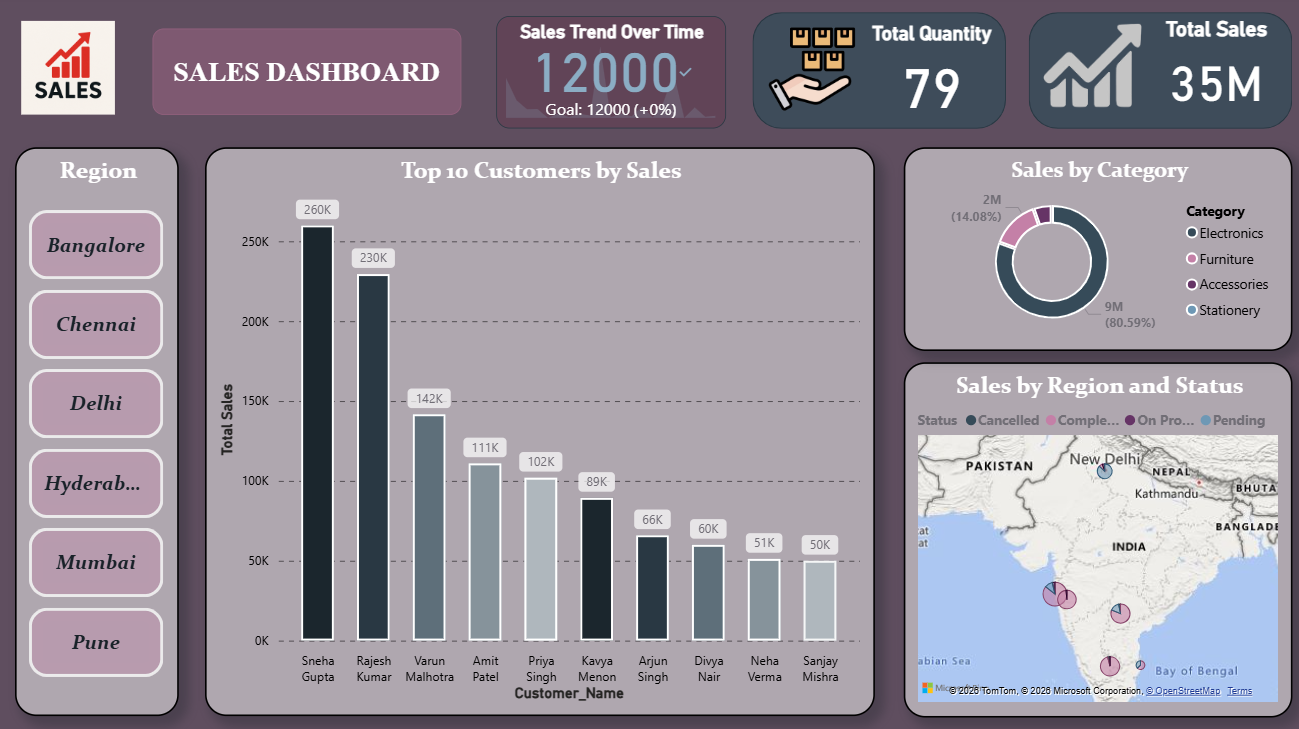

The dashboard page shown, as its layout file describes it:
{"tool":"powerbi","page":{"name":"Sales","canvas":[1280,720],"ordinal":0},"visuals":[{"type":"image","box":[0,19.6,133.7,101.8],"z":0},{"type":"lineStackedColumnComboChart","title":"Top 10 Customers by Sales ","fields":{"Category":["Raw Sales Data.Customer_Name"],"Y":["Raw Sales Data.Total Sales"]},"box":[201.7,148.2,657.3,558.5],"z":1000},{"type":"advancedSlicerVisual","fields":{"Values":["Raw Sales Data.Region"]},"box":[15.1,148.2,160.5,558.5],"z":2000},{"type":"map","title":"Sales by Region and Status","fields":{"Category":["Raw Sales Data.Region"],"Series":["Raw Sales Data.Status"],"Size":["Raw Sales Data.Total Sales"]},"box":[887.1,359.5,381.6,348.5],"z":3000},{"type":"donutChart","title":"Sales by Category ","fields":{"Y":["Raw Sales Data.Total Sales"],"Category":["Raw Sales Data.Category"]},"box":[887.1,148.5,381.6,200],"z":4000},{"type":"shape","box":[1010.1,16.2,258.7,114.4],"z":5000},{"type":"card","title":"Total Sales","fields":{"Values":["Raw Sales Data.Total Sales"]},"box":[1127,19.9,133.1,98.3],"z":6000},{"type":"shape","box":[738.9,16.2,248.8,114.4],"z":7000},{"type":"image","box":[730.2,23.6,133.1,97],"z":8000},{"type":"card","title":"Total Quantity","fields":{"Values":["Raw Sales Data.Total Quantity"]},"box":[841.7,25.8,146,95.7],"z":9000},{"type":"image","box":[1018.8,16.2,108.2,102],"z":10000},{"type":"kpi","title":"Sales Trend Over Time","fields":{"Indicator":["Raw Sales Data.Total Sales"],"TrendLine":["Raw Sales Data.Date"],"Goal":["Sum(Raw Sales Data.Unit_Price)"]},"box":[487.1,19.6,225.8,110.4],"z":11000},{"type":"textbox","box":[149.7,31.9,303.1,84.7],"z":12000}]}

Visuals, with their boxes in screenshot pixels (x1, y1, x2, y2), scaled from the page's 1280x720 canvas onto the 1299x729 screenshot:
image: detection(0, 20, 136, 123)
"Top 10 Customers by Sales " lineStackedColumnComboChart: detection(205, 150, 872, 716)
advancedSlicerVisual - Raw Sales Data.Region: detection(15, 150, 178, 716)
"Sales by Region and Status" map: detection(900, 364, 1288, 717)
"Sales by Category " donutChart: detection(900, 150, 1288, 353)
shape: detection(1025, 16, 1288, 132)
"Total Sales" card: detection(1144, 20, 1279, 120)
shape: detection(750, 16, 1002, 132)
image: detection(741, 24, 876, 122)
"Total Quantity" card: detection(854, 26, 1002, 123)
image: detection(1034, 16, 1144, 120)
"Sales Trend Over Time" kpi: detection(494, 20, 723, 132)
textbox: detection(152, 32, 460, 118)
